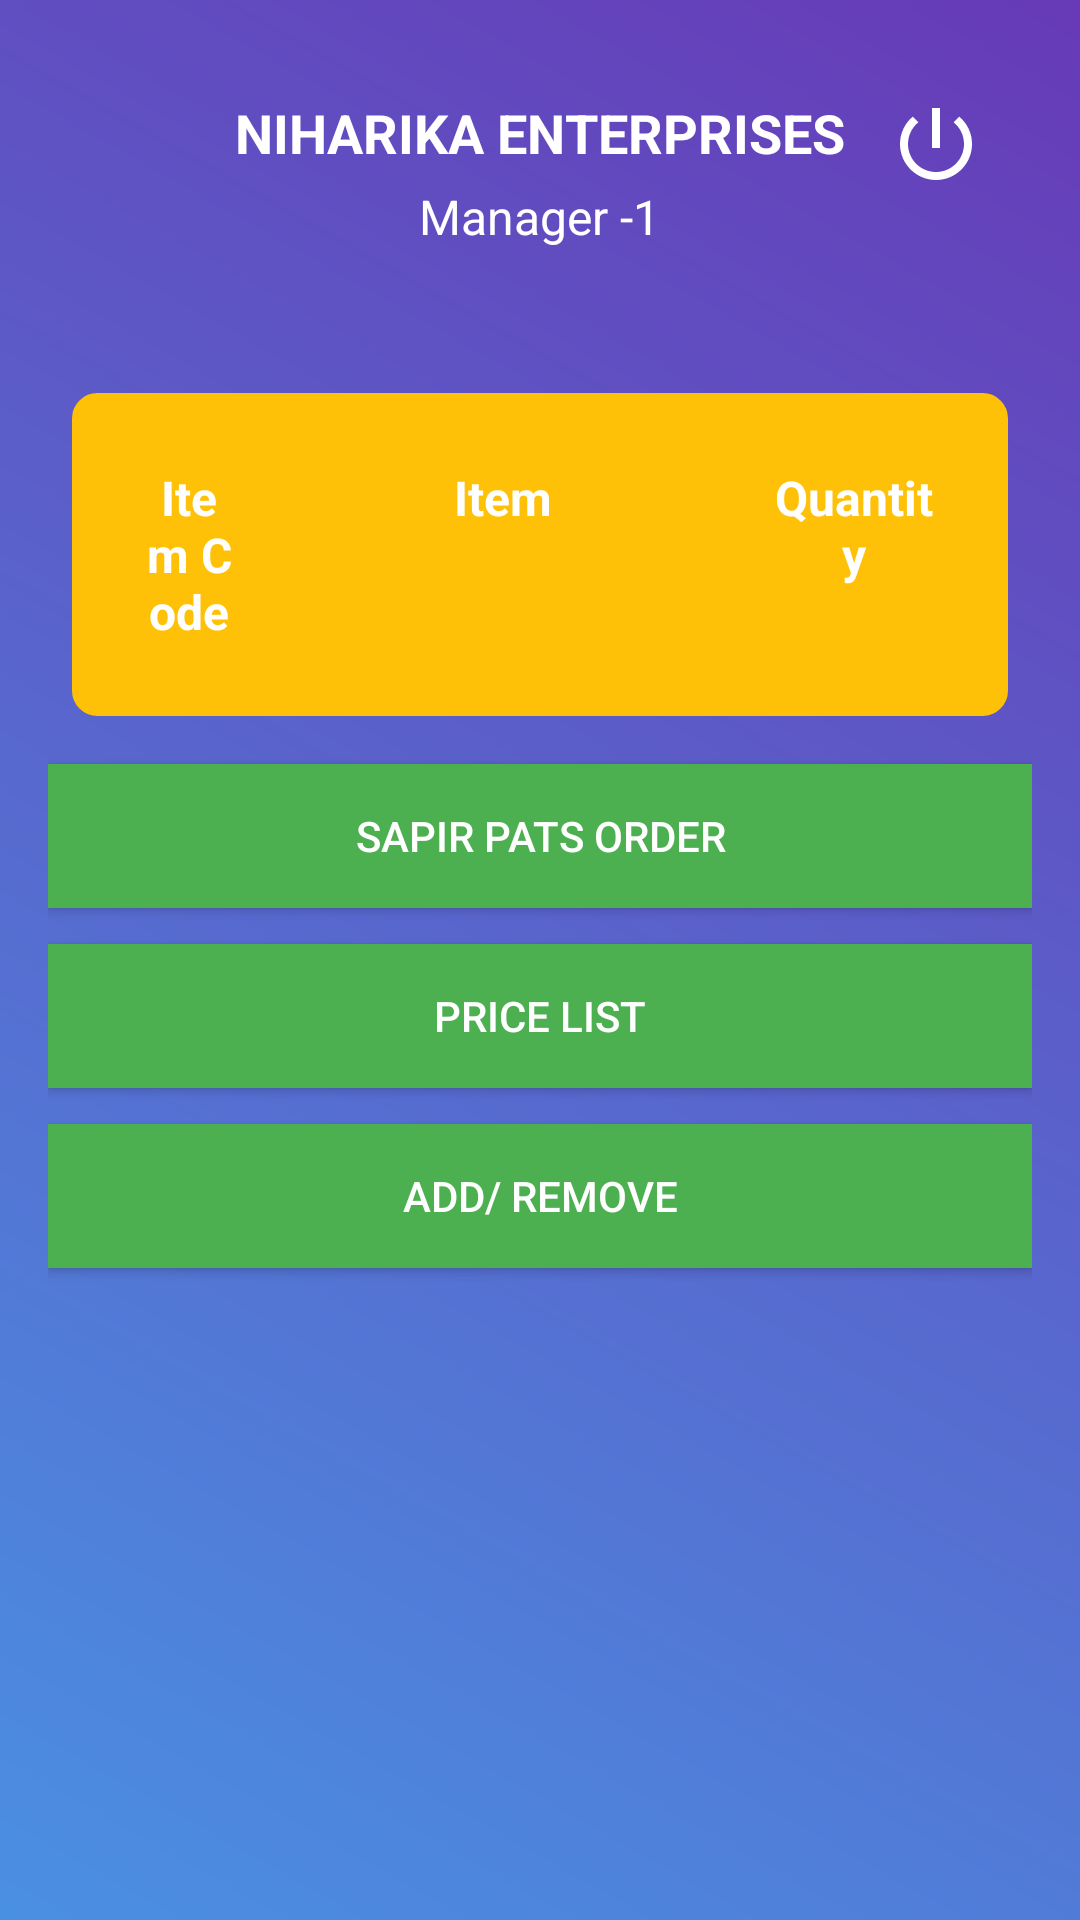

Icon click points for this 1080 x 1920 phone screenshot, format (x=x, y=y):
power: (x=936, y=144)
